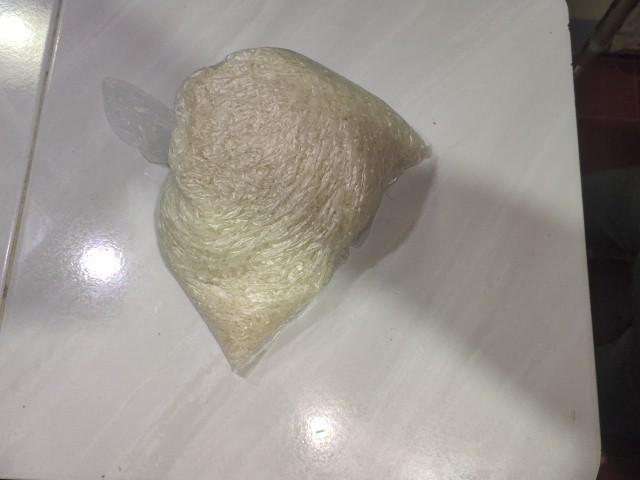rice: (156, 44, 436, 377)
